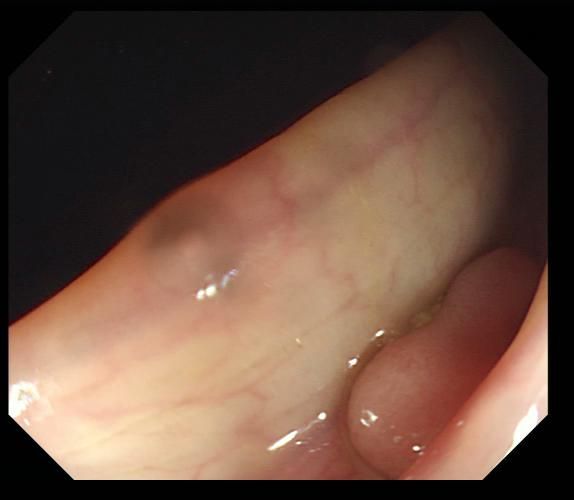polyp: (347, 249, 541, 475)
